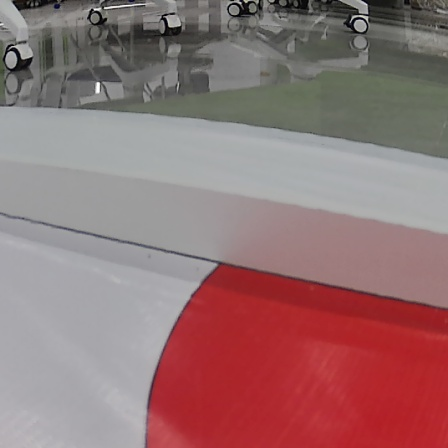red_base: (147, 243, 448, 448)
